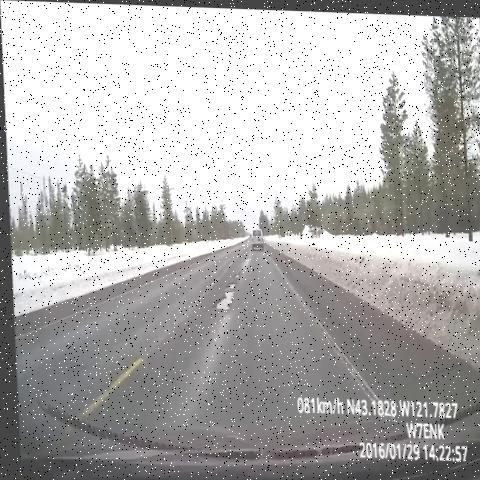pothole: (205, 278, 238, 318), (227, 263, 248, 282)
